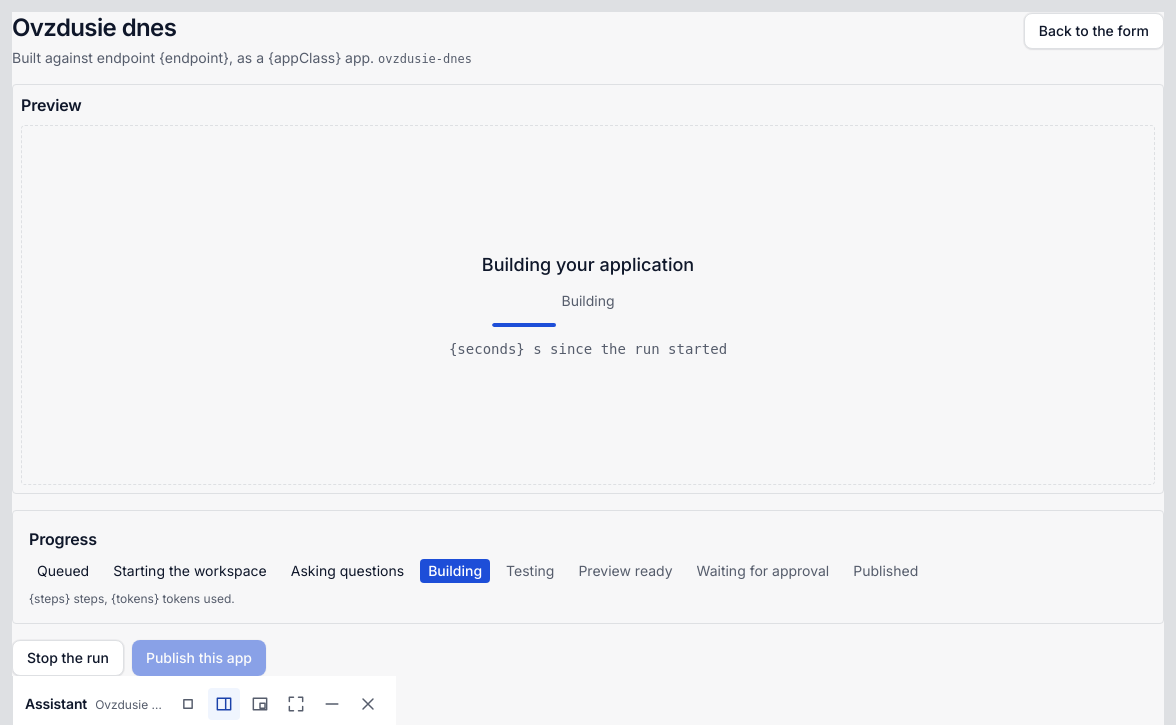
Test: watching a run › names why a stop or a publish was refused
Expected: the heading "Ovzdusie dnes" is shown, [12, 13, 176, 42]
Step 1. Click the button "Stop the run" → (68, 658), box [12, 640, 124, 676]
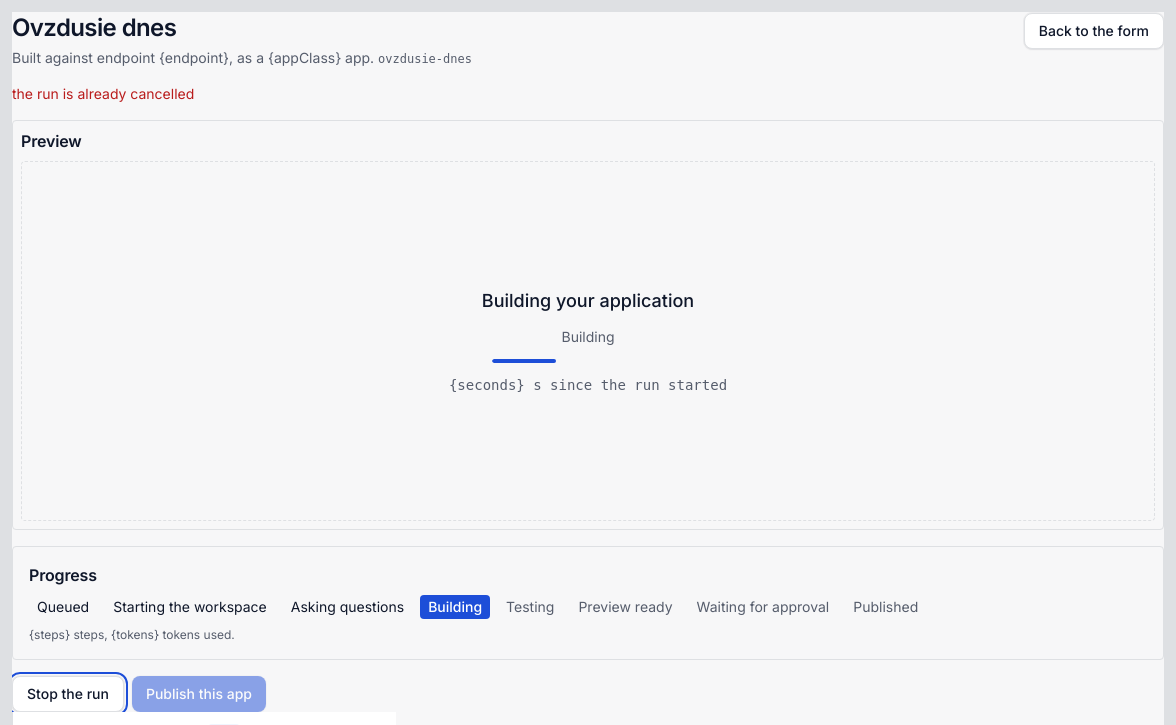
Expected: the text "the run is already cancelled" is shown, [12, 85, 194, 102]
